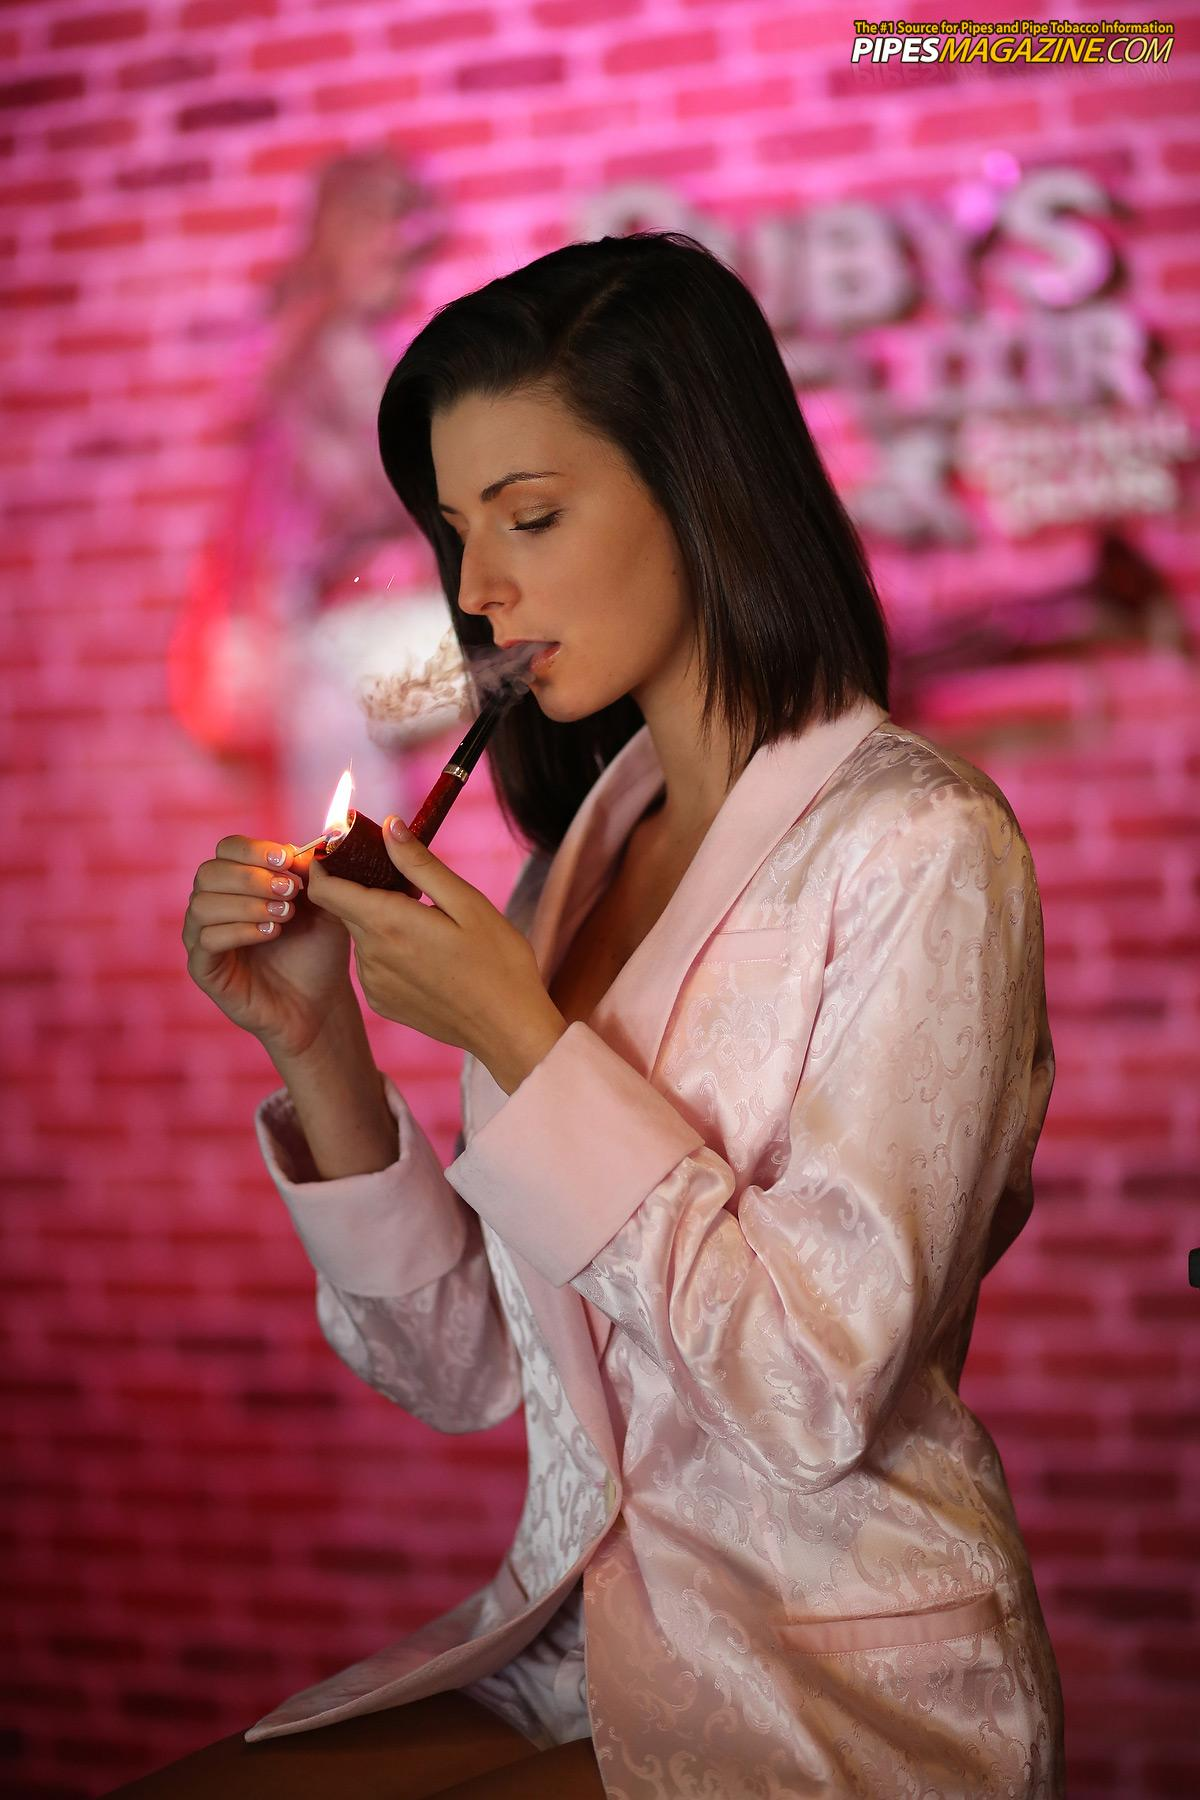trubka: (316, 648, 532, 899)
